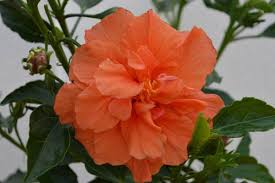hybiscus: (56, 13, 220, 182)
